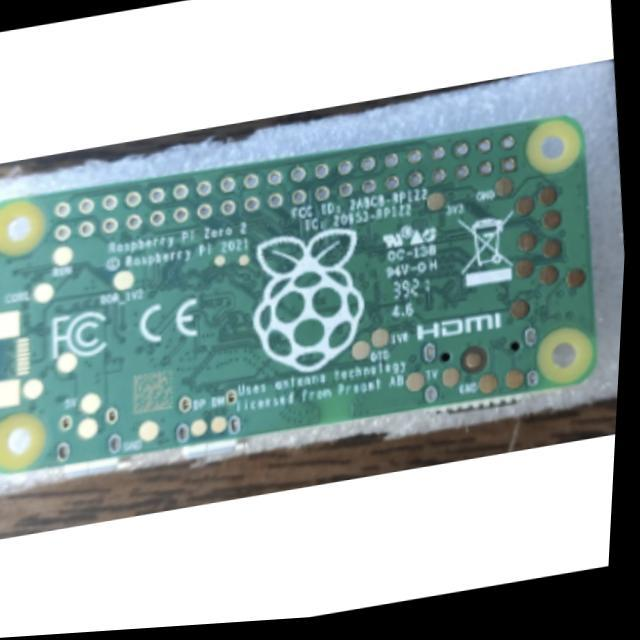Raspberry-Pi-Zero-2-W: (1, 117, 596, 480)
